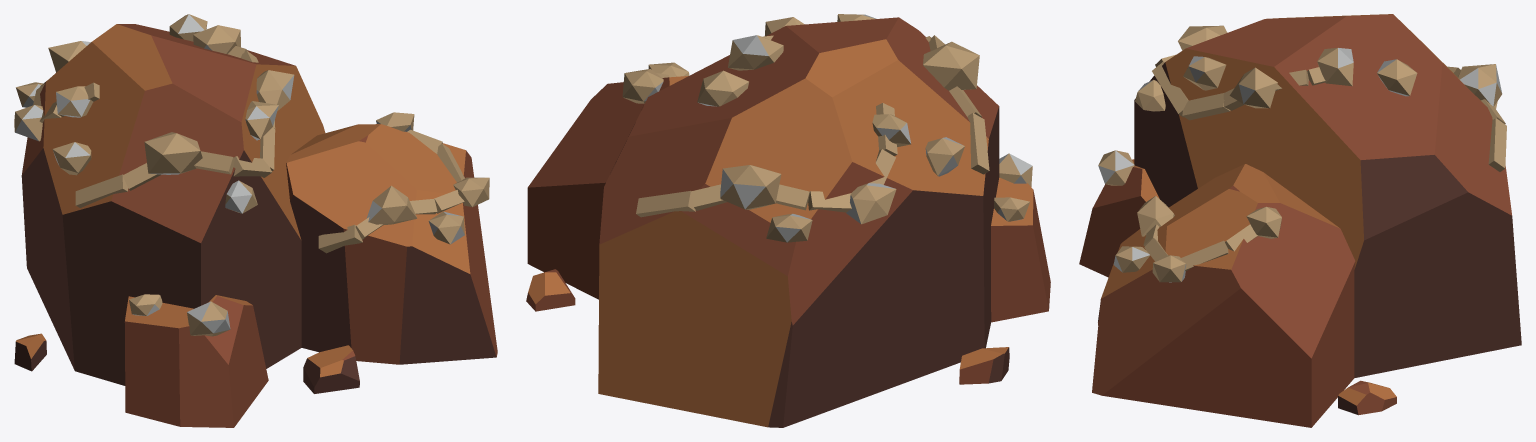
The model's file is ore_iron_a.fbx.
3 renders of one model, left to right at view 1: azimuth 30°, elevation 25°; view 2: azimuth 150°, elevation 25°; view 3: azimuth 270°, elevation 25°, orthographic. The views are drawn at different scales.
Visible parts, largest first — view 1: ore_iron_a; view 2: ore_iron_a; view 3: ore_iron_a.
Part boxes in pixels (x1,y1,x2,y2): ore_iron_a: [14, 14, 497, 427]; ore_iron_a: [526, 14, 1050, 427]; ore_iron_a: [1079, 14, 1521, 427].
Bounding box in the file's own units: 1.53 × 0.9252 × 1.36.
